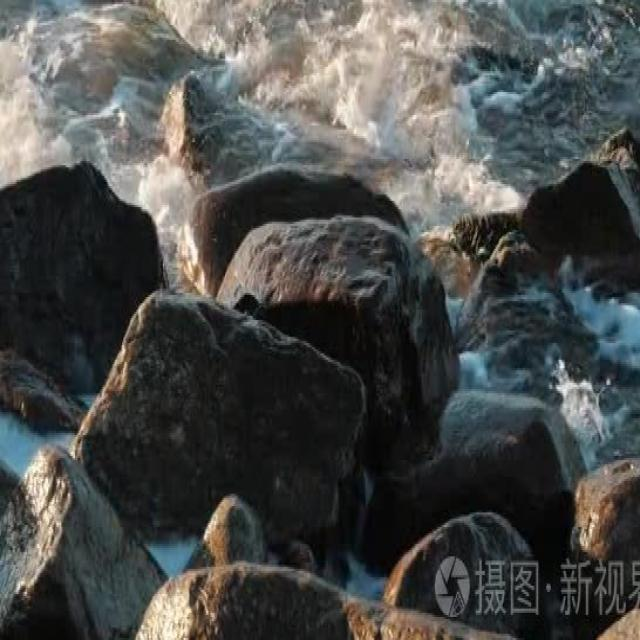reef: (147, 34, 622, 487)
